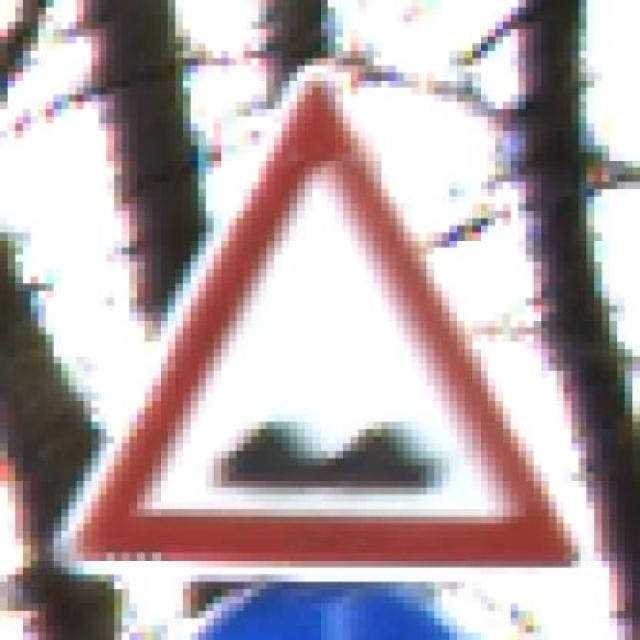Uneven Road: (61, 43, 594, 589)
